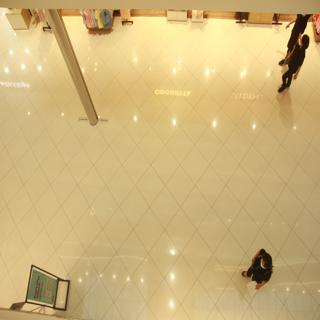person: (277, 26, 314, 101), (240, 241, 281, 296)
